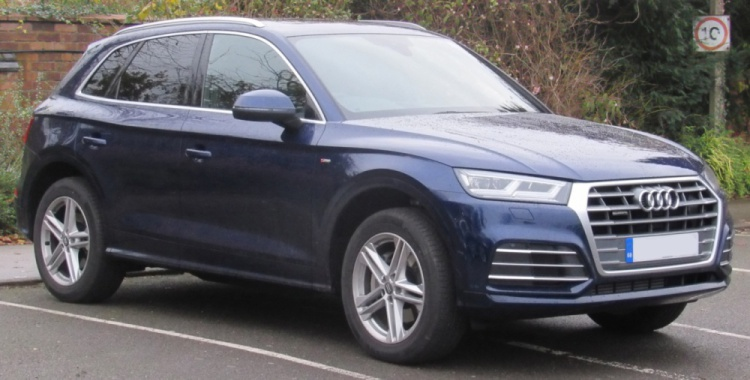audi: (628, 184, 685, 215)
